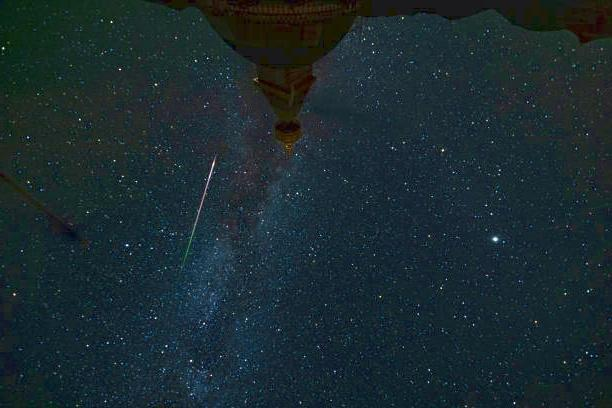meteorite: (185, 154, 221, 246)
